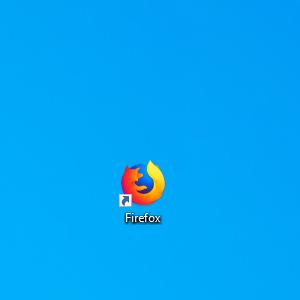firefox: (119, 159, 166, 207)
